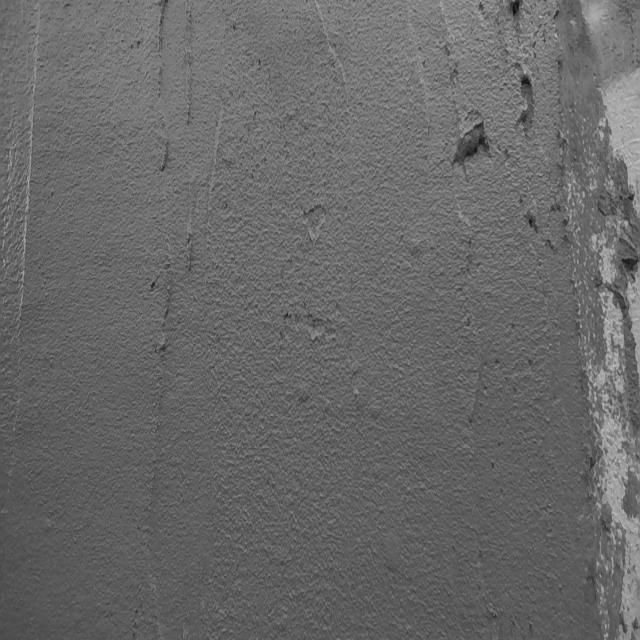trowels marks: (153, 0, 183, 359), (18, 0, 38, 336)
